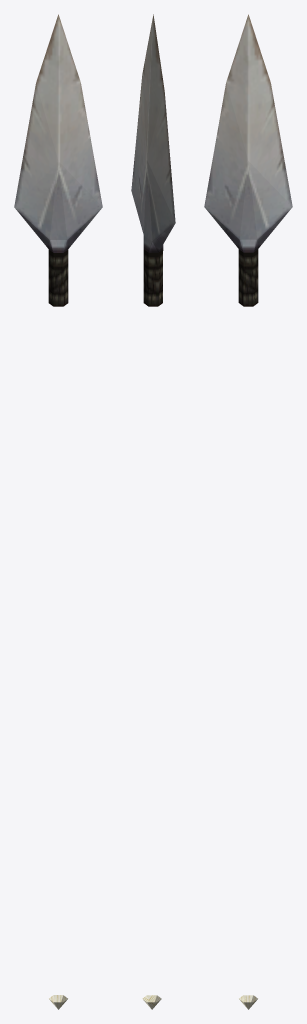
The model's file is Whale_commonWeapon_lance.obj.
3 views of the same model, side by side, from view 1: azimuth 90°, elevation 25°; view 2: azimuth 210°, elevation 25°; view 3: azimuth 270°, elevation 25° (orthographic).
Parts seen in each view (by area): view 1: Whale_commonWeapon_tri [lance]; view 2: Whale_commonWeapon_tri [lance]; view 3: Whale_commonWeapon_tri [lance].
Boxes of the visible parts, x1,y1,x2,y2 form: Whale_commonWeapon_tri [lance]: (14, 14, 102, 1009); Whale_commonWeapon_tri [lance]: (131, 14, 175, 1009); Whale_commonWeapon_tri [lance]: (204, 14, 292, 1009).
Size of the model in its own units: 0.0425 by 2.52 by 0.203.
Materials: 1 (1 with a texture image).
